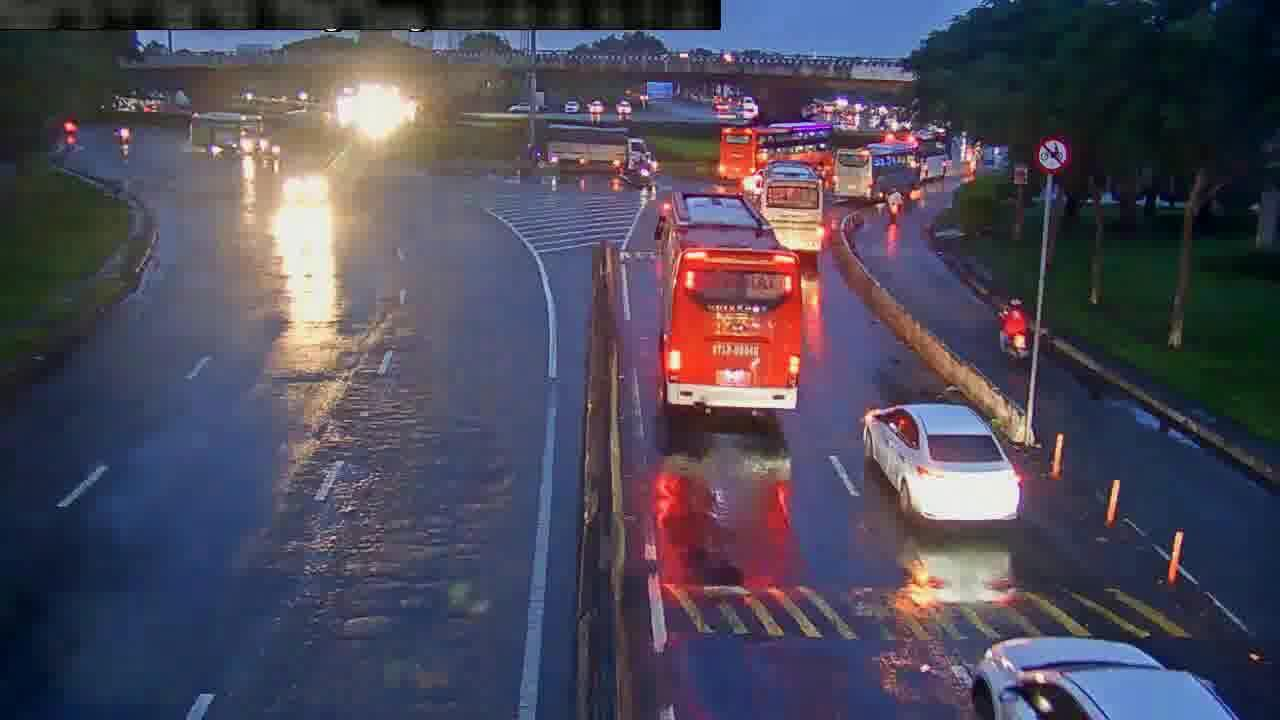14: (659, 187, 799, 421), (713, 122, 838, 179), (755, 164, 825, 260), (836, 145, 913, 203)
8: (529, 111, 657, 177)
container: (970, 631, 1237, 720), (864, 402, 1023, 528)
motorbike: (993, 292, 1033, 361), (883, 183, 905, 222)
